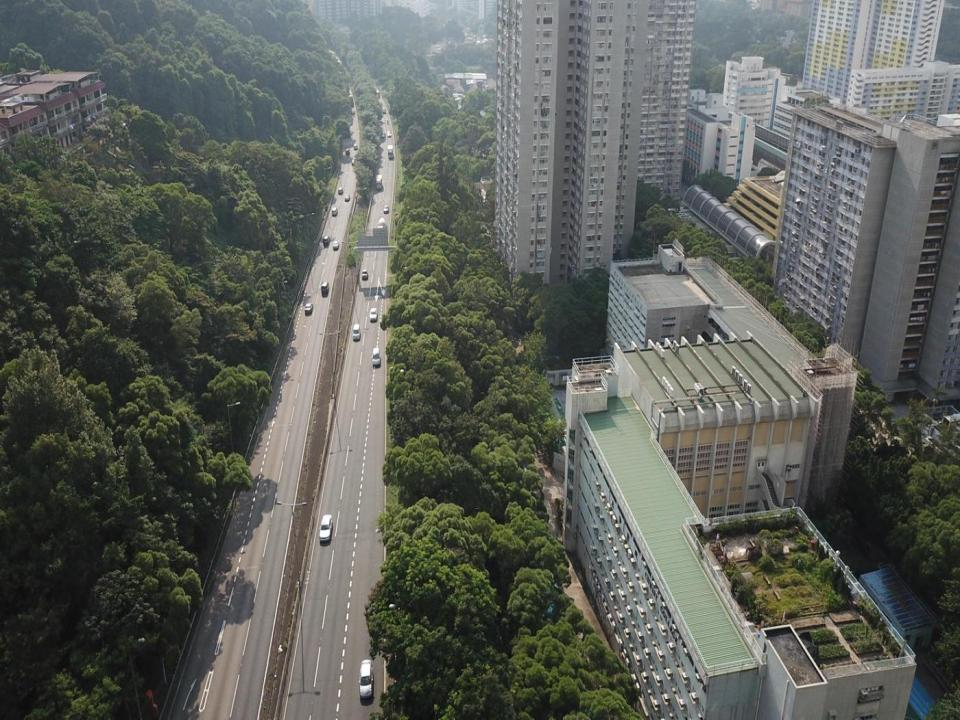car: (358, 659, 374, 699), (318, 514, 333, 542), (371, 347, 381, 366), (368, 307, 378, 323), (352, 323, 360, 341), (320, 280, 329, 294), (304, 301, 313, 314), (361, 267, 369, 280), (322, 234, 330, 245), (331, 207, 339, 216), (332, 240, 339, 250), (382, 205, 389, 214), (344, 193, 350, 202), (338, 187, 344, 195), (351, 158, 357, 166), (352, 142, 358, 150), (386, 130, 392, 138), (380, 130, 385, 139), (345, 147, 350, 155), (381, 107, 386, 114)
truck: (376, 214, 386, 238), (375, 173, 383, 190), (386, 144, 394, 159)
